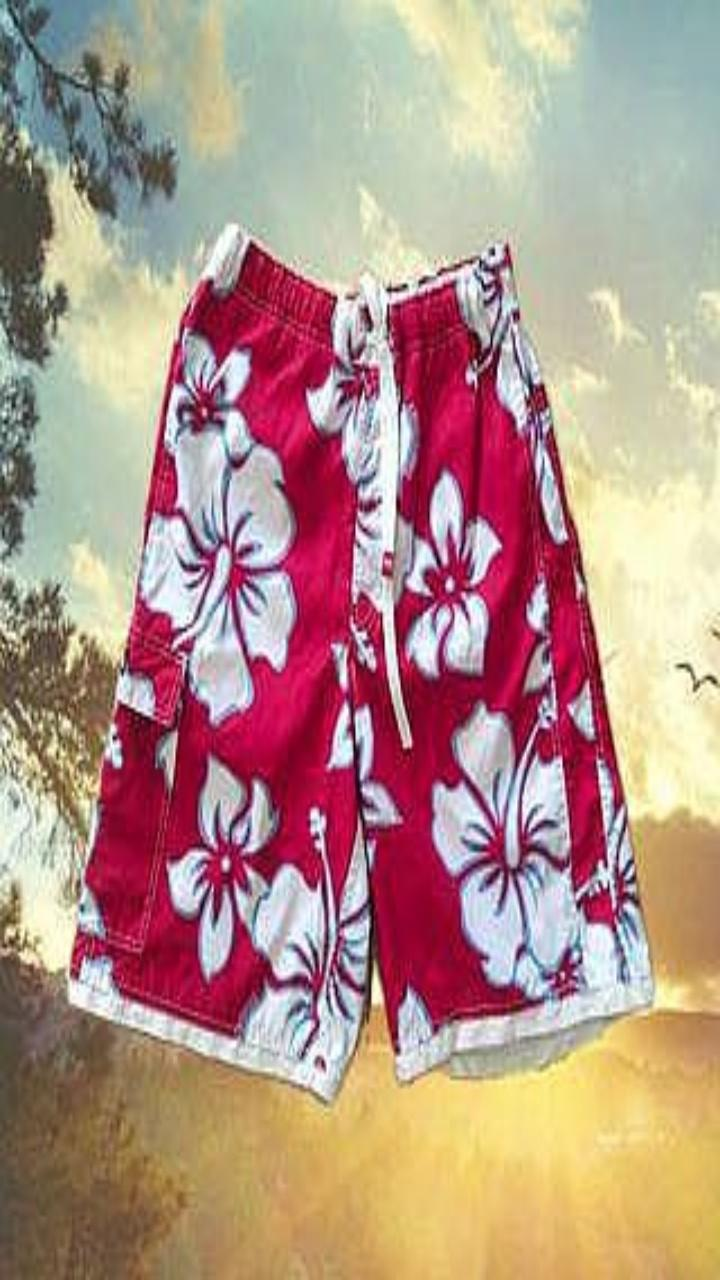Shorts: (68, 224, 653, 1101)
